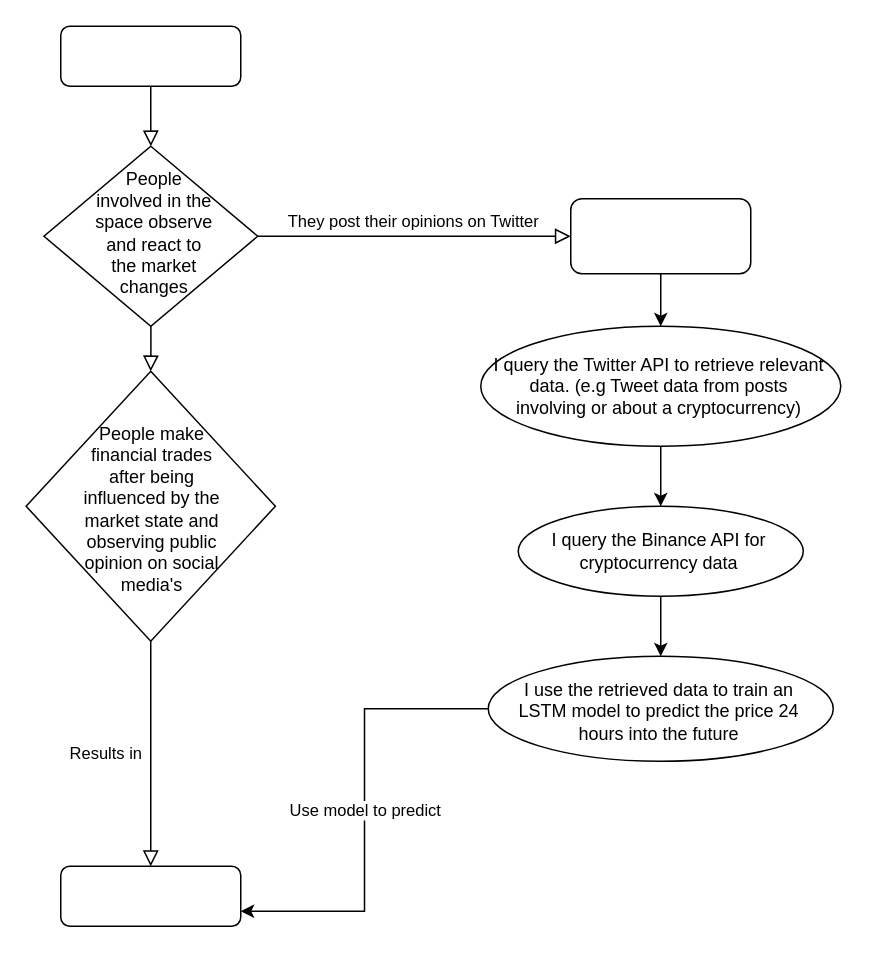
The diagram is 869 pixels wide and 953 high, and some of its shapes have lost their labels. The centre of each missing label's shape, as x and y in pixels:
"Cryptocurrencies future state" goes at (x=150, y=895).
"Cryptocurrency market fluctuates" goes at (x=150, y=55).
"Twitter collects subjective data from it's users" goes at (x=660, y=235).
